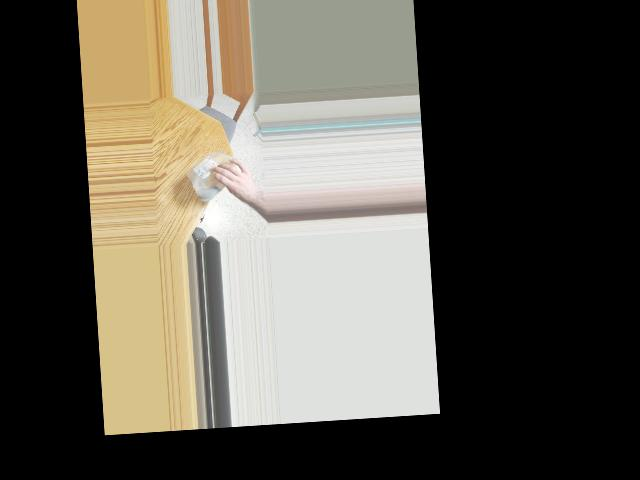cheese: (183, 146, 245, 196)
